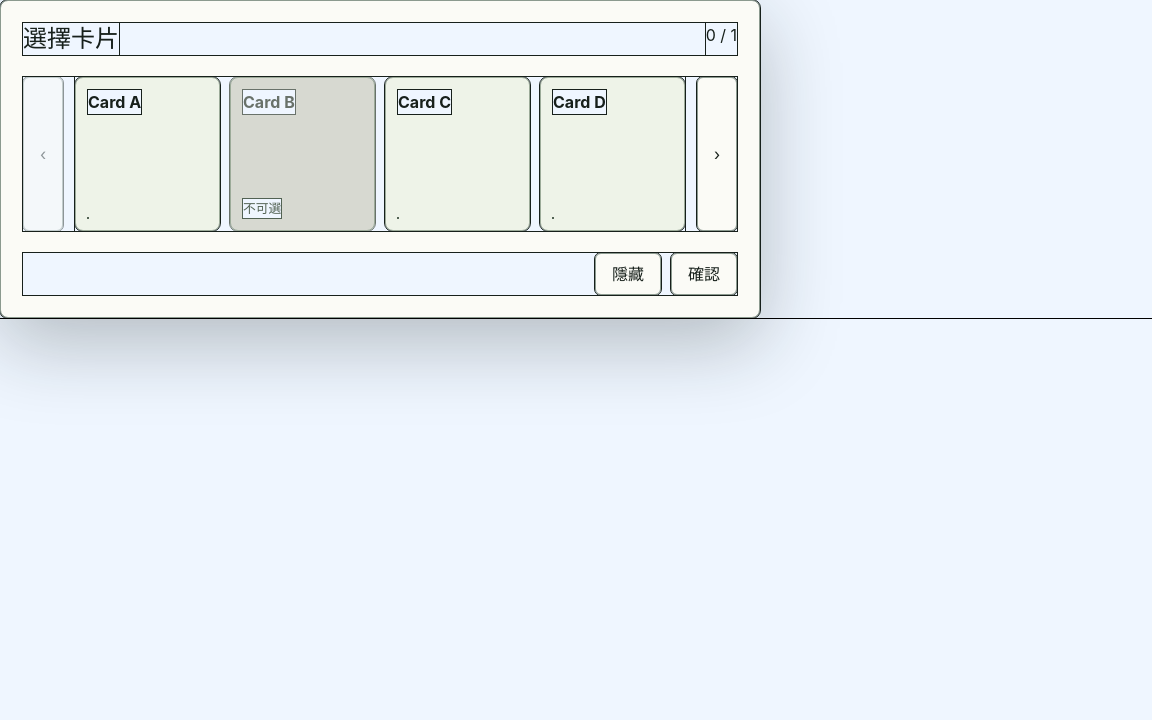
Test case: CardSelectorModal › paginates cards with stable page controls
Expected: the text "Card E" is not shown
Click the button named "下一頁". click: [717, 154]
box: x1=697 y1=77 x2=737 y2=231
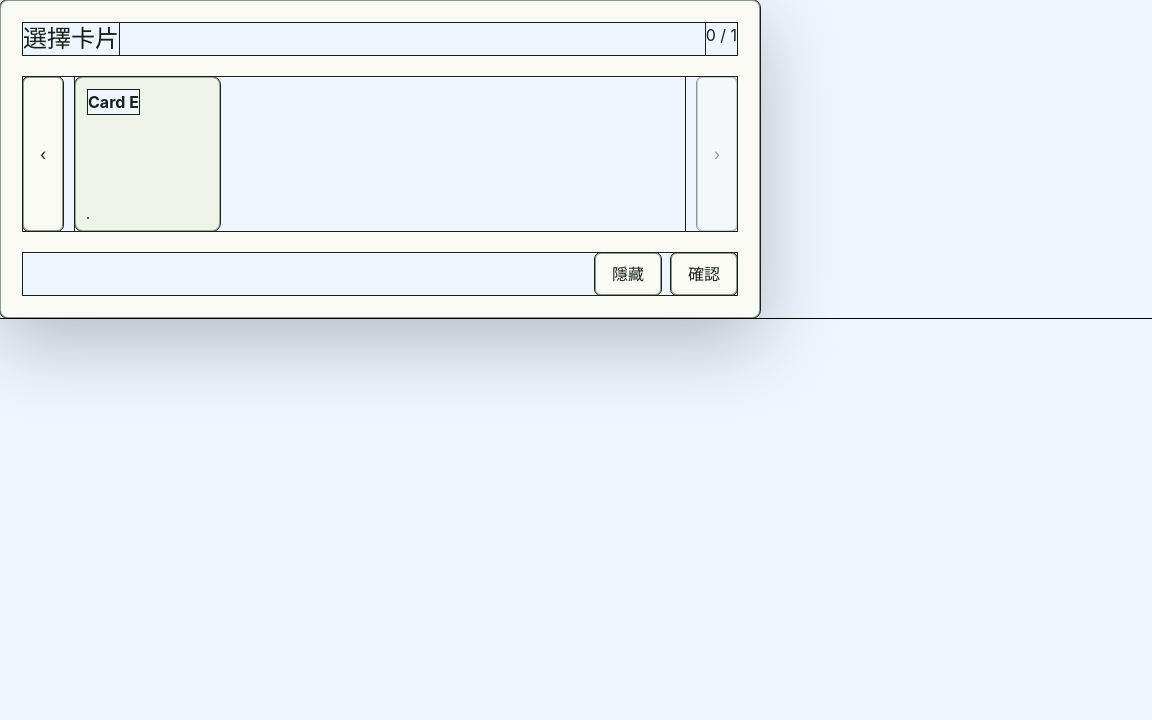
Expected: the text "Card E" is shown, x1=88 y1=90 x2=139 y2=114
